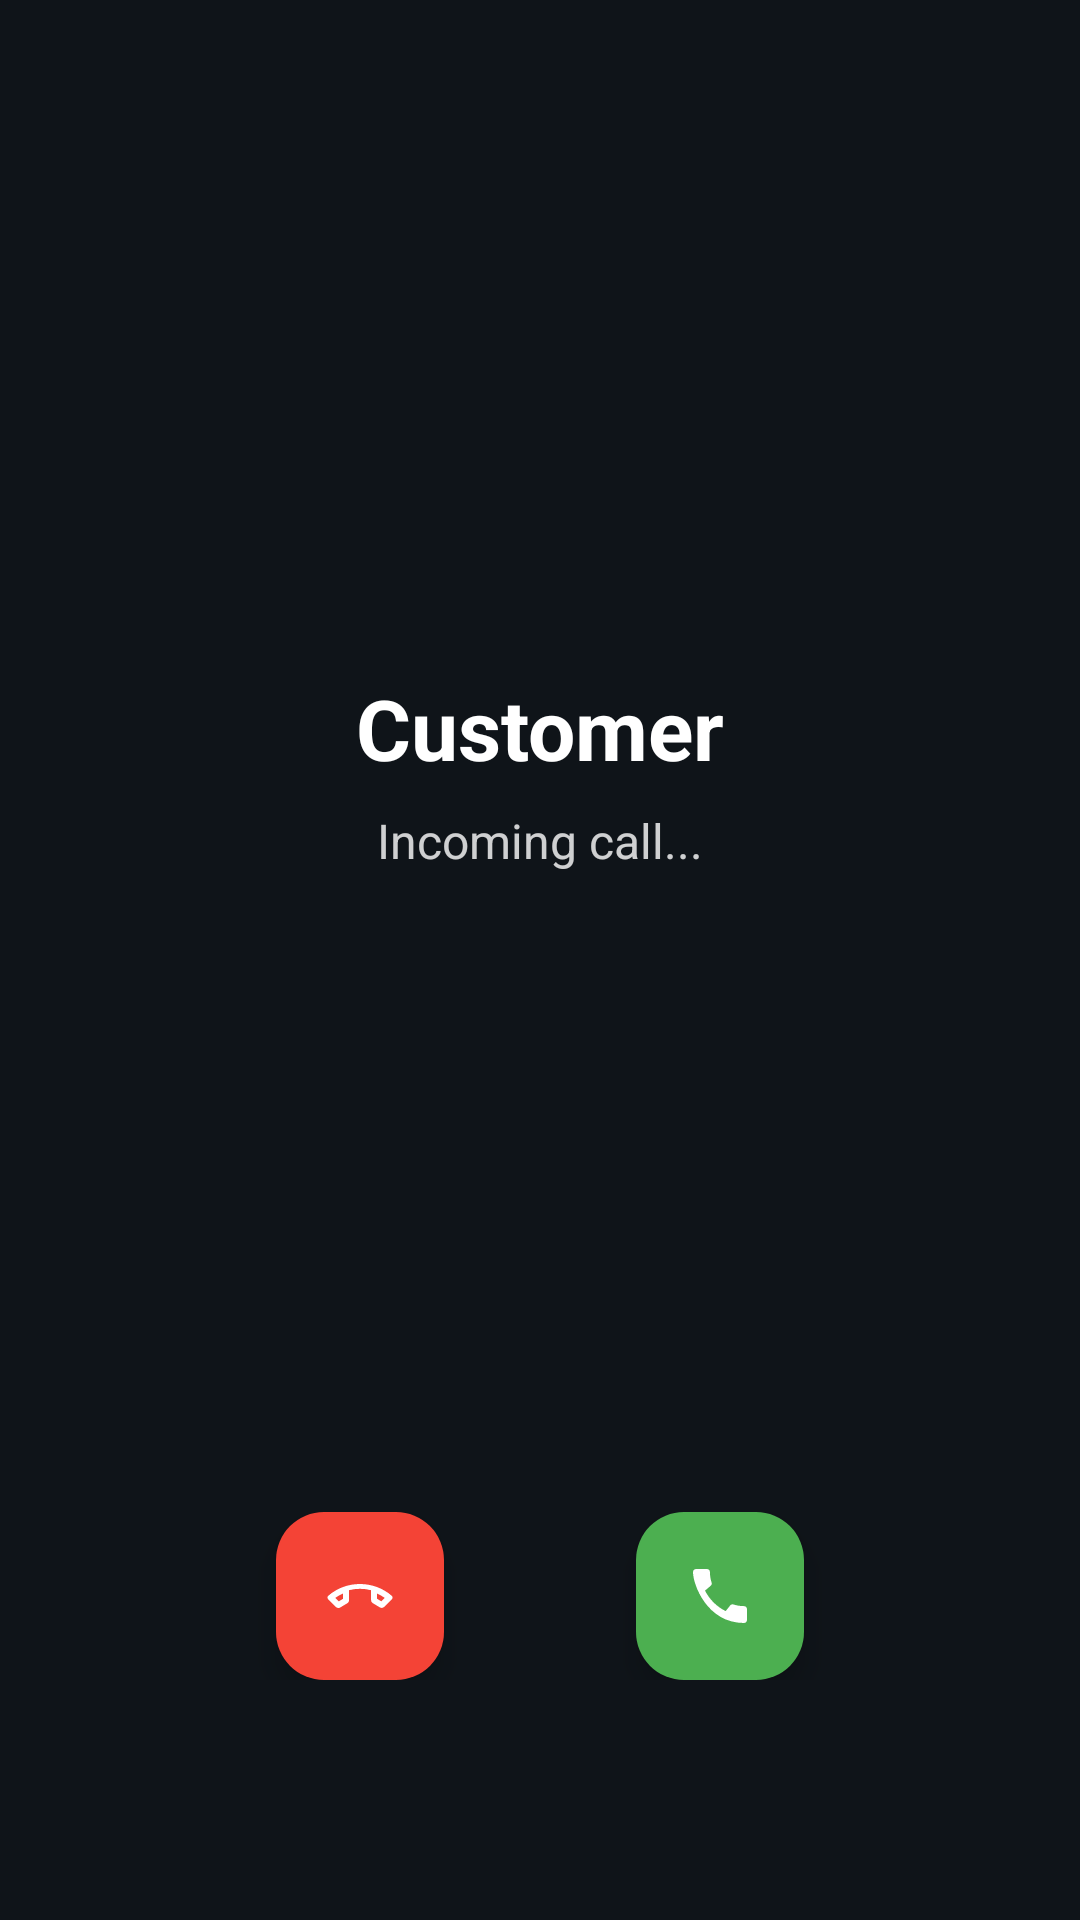

Named icons in this screenshot (1080 x 1920) and their centers, (x=x, y=y):
call accept: (x=720, y=1596)
call decline: (x=360, y=1596)
